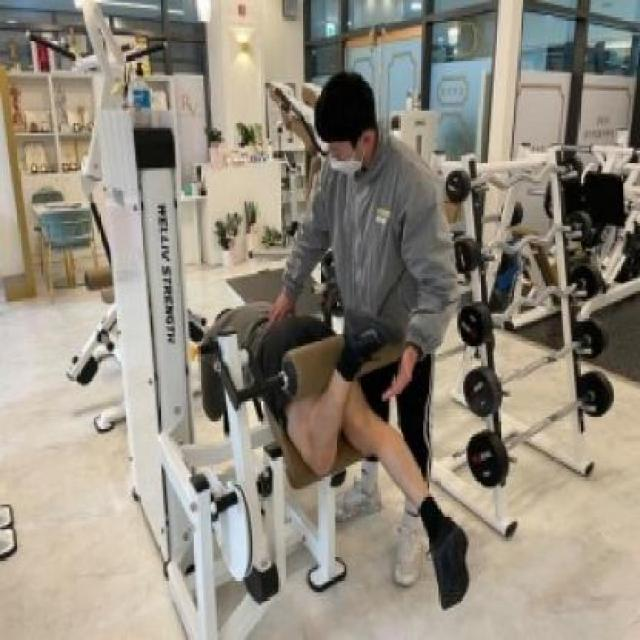reg curl machine: (91, 95, 472, 640)
